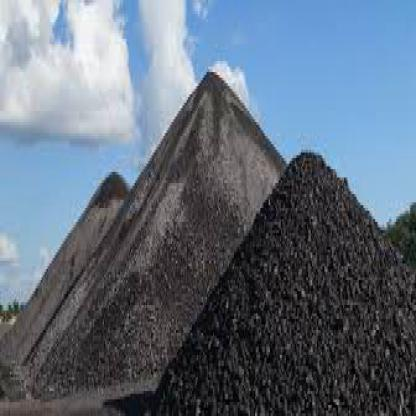Sedimentary_coal: (270, 258, 280, 283), (308, 205, 317, 230), (342, 314, 350, 336)
